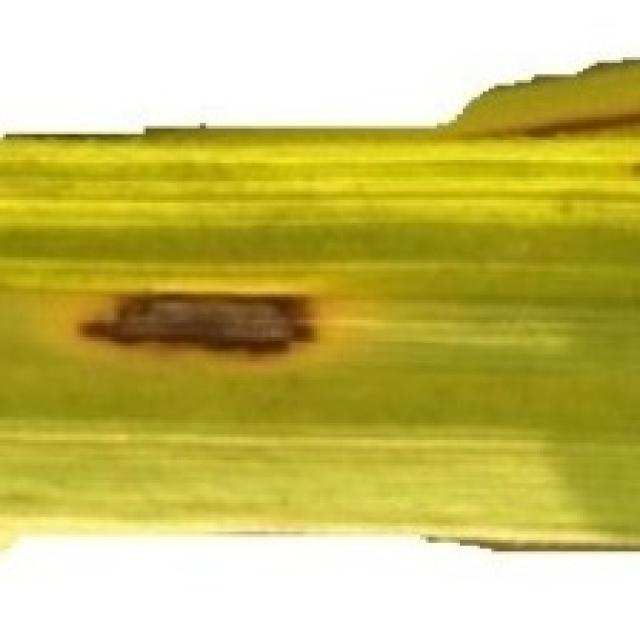Rice___Brown_Spot: (0, 60, 637, 551)
